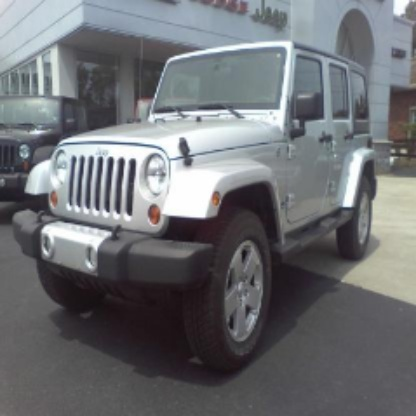Vehicle: (7, 31, 367, 371)
